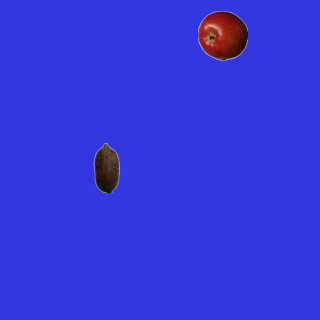Apple Braeburn: (197, 10, 247, 60)
Nut Pecan: (81, 142, 131, 192)
